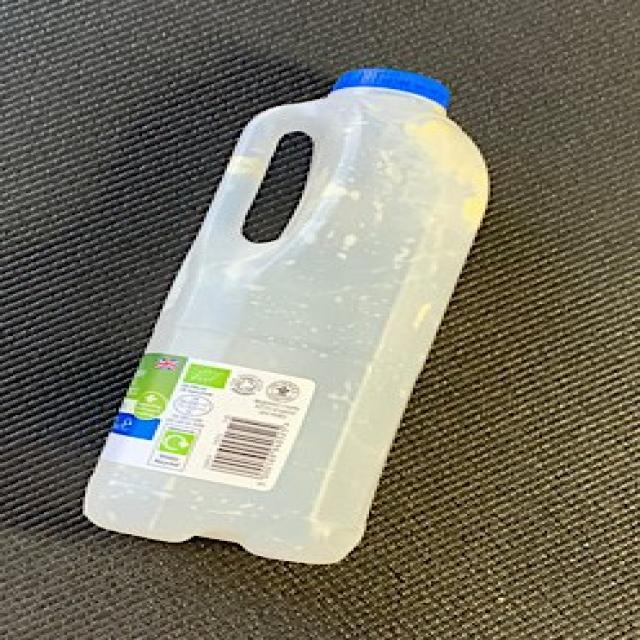HDPE Plastic: (78, 63, 496, 568)
